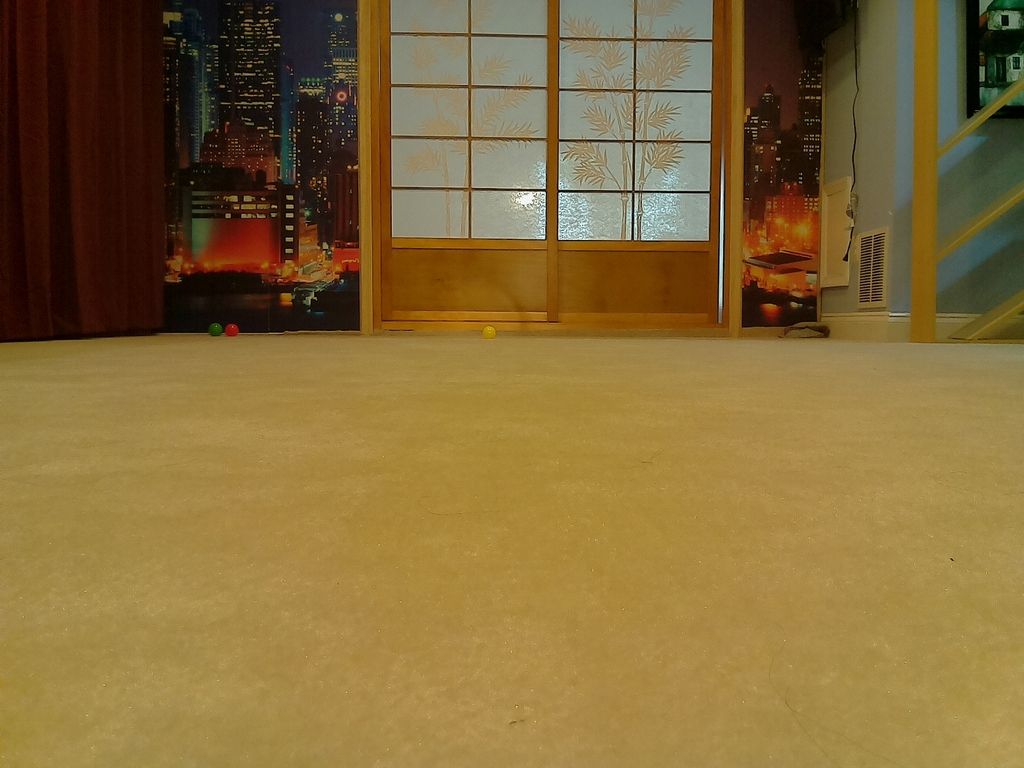ball: (227, 322, 240, 335)
